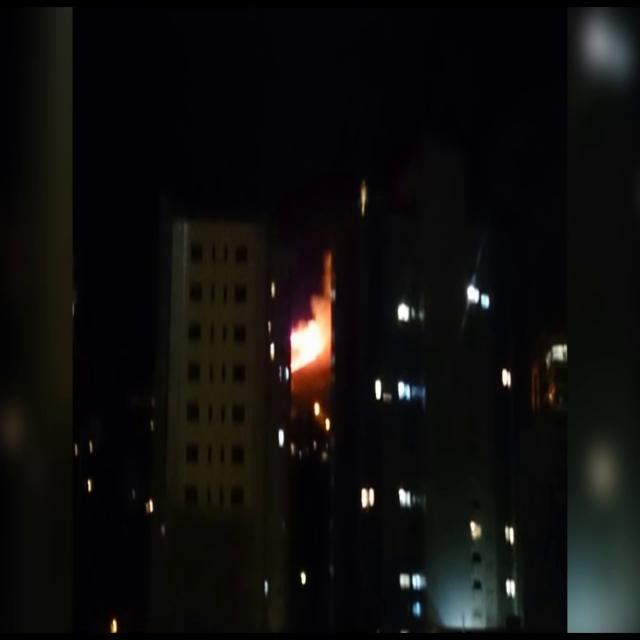Fire: (292, 299, 332, 369)
